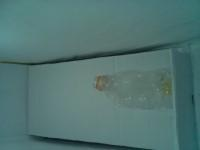bottle: (90, 74, 174, 105)
